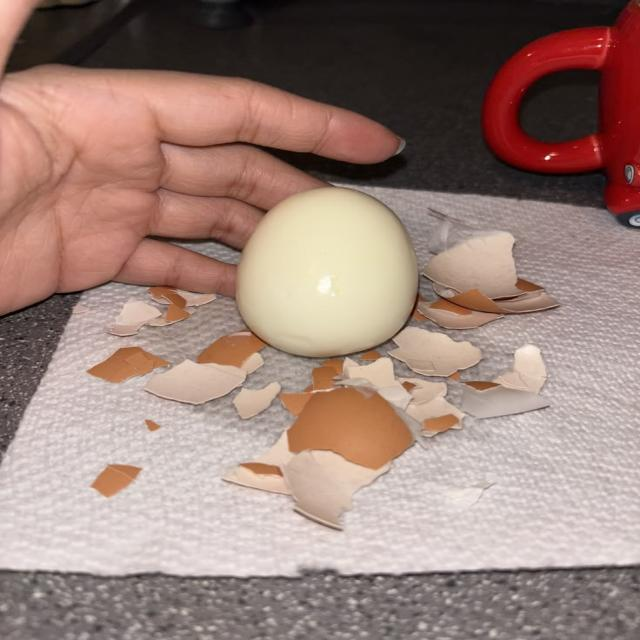egg boiled: (237, 187, 418, 356)
